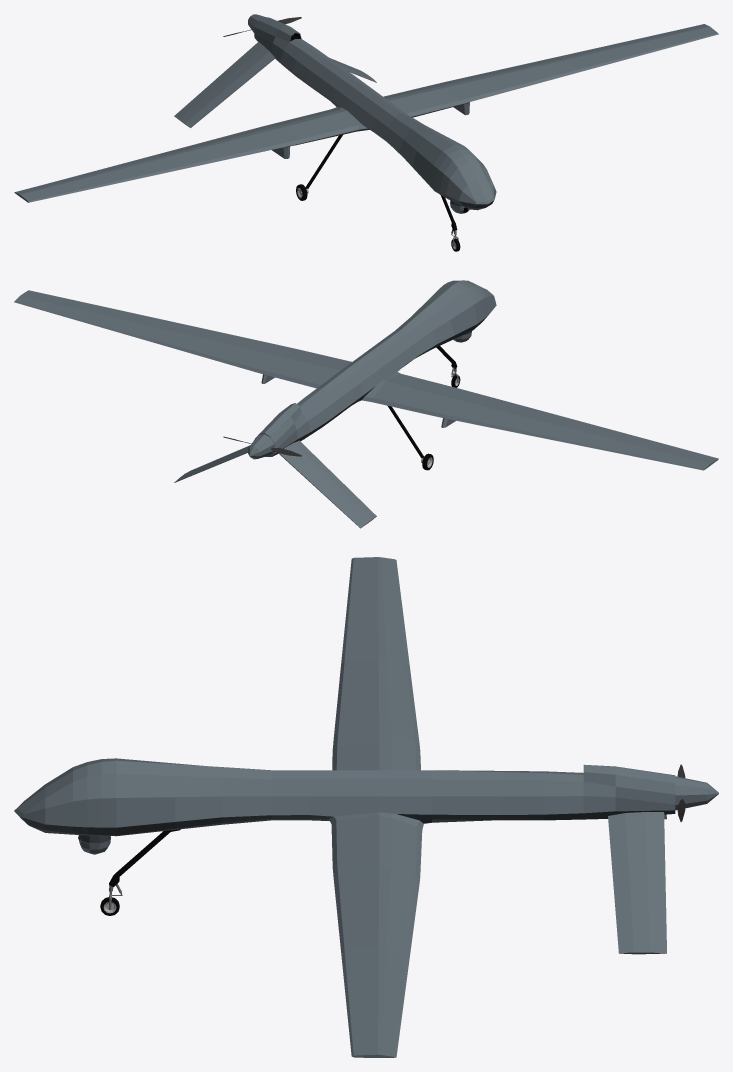
The picture shows the model from 3 angles, top to bottom: view 1: azimuth 30°, elevation 25°; view 2: azimuth 150°, elevation 25°; view 3: azimuth 270°, elevation 25°; orthographic projection. The views are drawn at different scales.
Visible parts, largest first — view 1: Circle, Circle.004, Circle.002, Circle.006, Circle.003, Landing gear_RL.001, Circle.007; view 2: Circle, Circle.004, Circle.003, Circle.007, Circle.002, Circle.006, Circle.001, Circle.005, Landing gear_RL.001; view 3: Circle, Circle.005, Circle.006, Circle.007, Circle.002, Circle.003, Circle.001, Landing gear_F.
Boxes of the visible parts, <box> form: Circle: <box>17,17,718,213</box>; Circle.004: <box>174,42,275,127</box>; Circle.002: <box>14,155,161,194</box>; Circle.006: <box>556,24,708,58</box>; Circle.003: <box>156,128,263,156</box>; Landing gear_RL.001: <box>296,134,342,200</box>; Circle.007: <box>450,57,561,82</box>; Circle: <box>19,280,718,467</box>; Circle.004: <box>278,440,376,528</box>; Circle.003: <box>447,405,561,440</box>; Circle.007: <box>154,332,263,371</box>; Circle.002: <box>555,430,708,470</box>; Circle.006: <box>14,296,161,342</box>; Circle.001: <box>223,434,301,459</box>; Circle.005: <box>174,445,250,482</box>; Landing gear_RL.001: <box>387,405,433,470</box>; Circle: <box>14,557,675,1057</box>; Circle.005: <box>608,812,666,954</box>; Circle.006: <box>381,949,409,1057</box>; Circle.007: <box>386,873,419,955</box>; Circle.002: <box>381,557,409,666</box>; Circle.003: <box>386,660,419,743</box>; Circle.001: <box>675,764,718,821</box>; Landing gear_F: <box>100,829,180,915</box>.
Size of the model in its own units: 1428 by 207 by 855.
